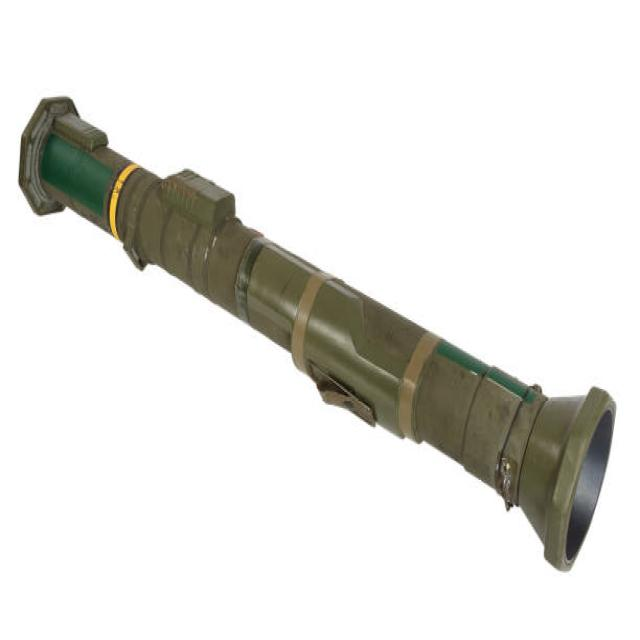bazooka: (9, 88, 623, 578)
